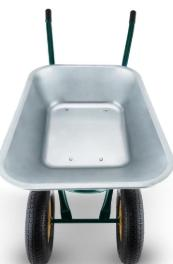BROUETTE: (1, 4, 173, 264)
